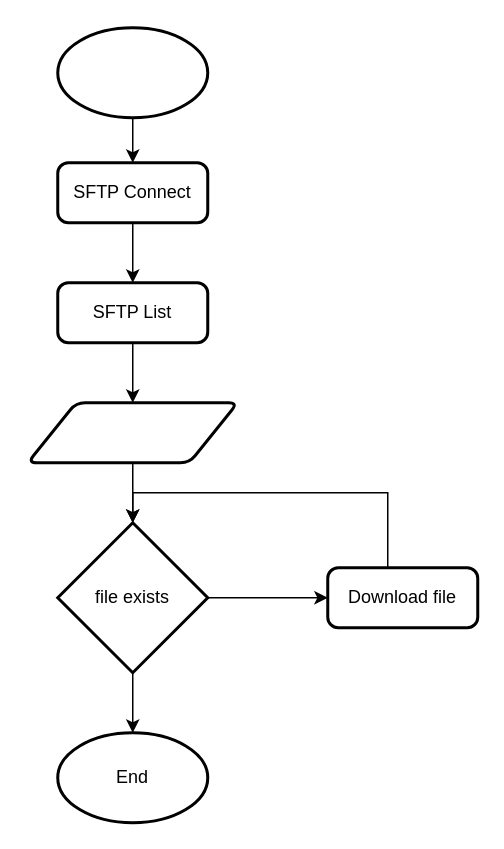
Image size: 504x849. Some labels were removed from this diagram. The shapes that lost their labels are listed below. From the top down, each one's box as (x1, y1, x2, y2) in pixels, then its label:
(56, 26, 208, 118): Start
(26, 400, 238, 464): files = SFTP List
